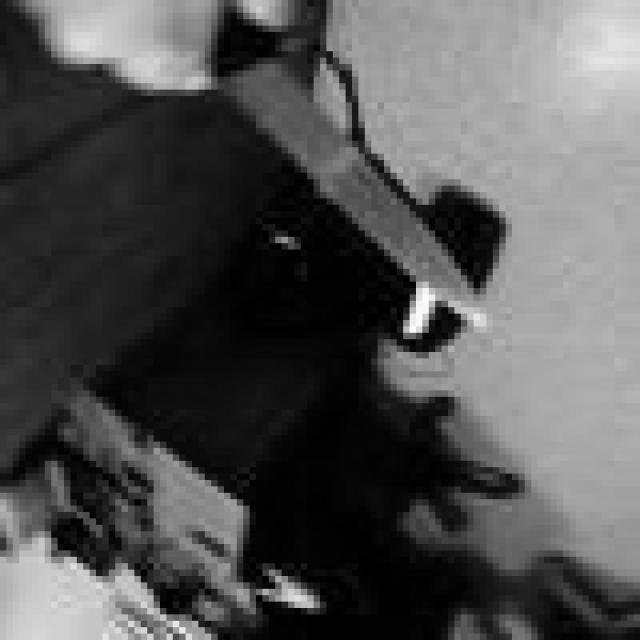knife: (216, 21, 486, 331)
